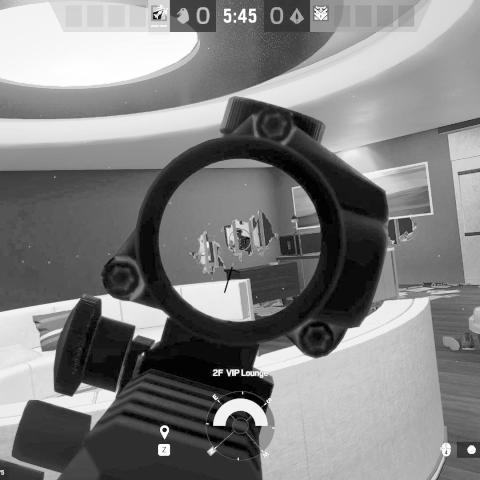Character: (228, 228, 254, 252)
Head: (234, 228, 244, 238)
